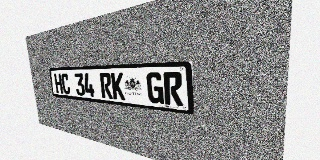3: (74, 73, 85, 96)
4: (83, 73, 95, 97)
C: (61, 73, 71, 95)
G: (146, 72, 164, 104)
H: (54, 73, 63, 94)
K: (111, 73, 125, 100)
R: (163, 72, 183, 106), (99, 73, 113, 99)
